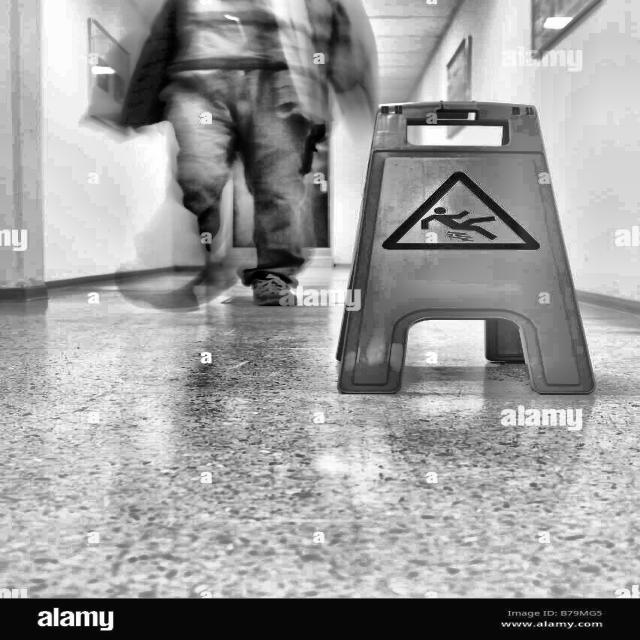slippery ground: (338, 98, 607, 417)
